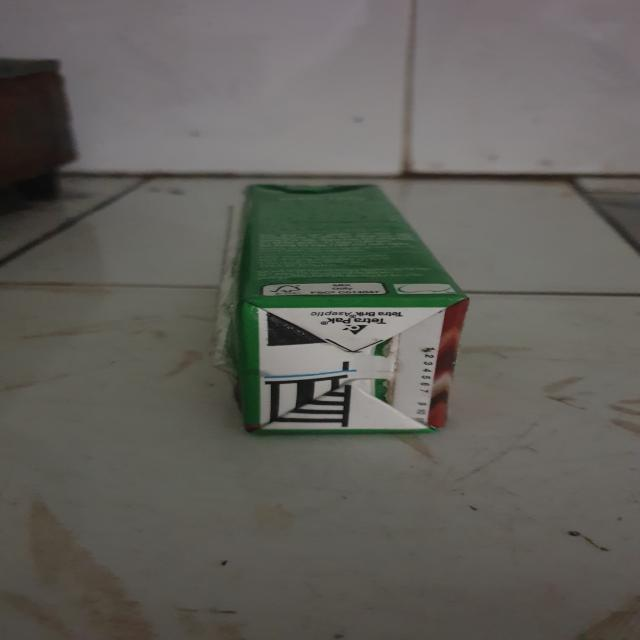Milo: (238, 187, 469, 431)
